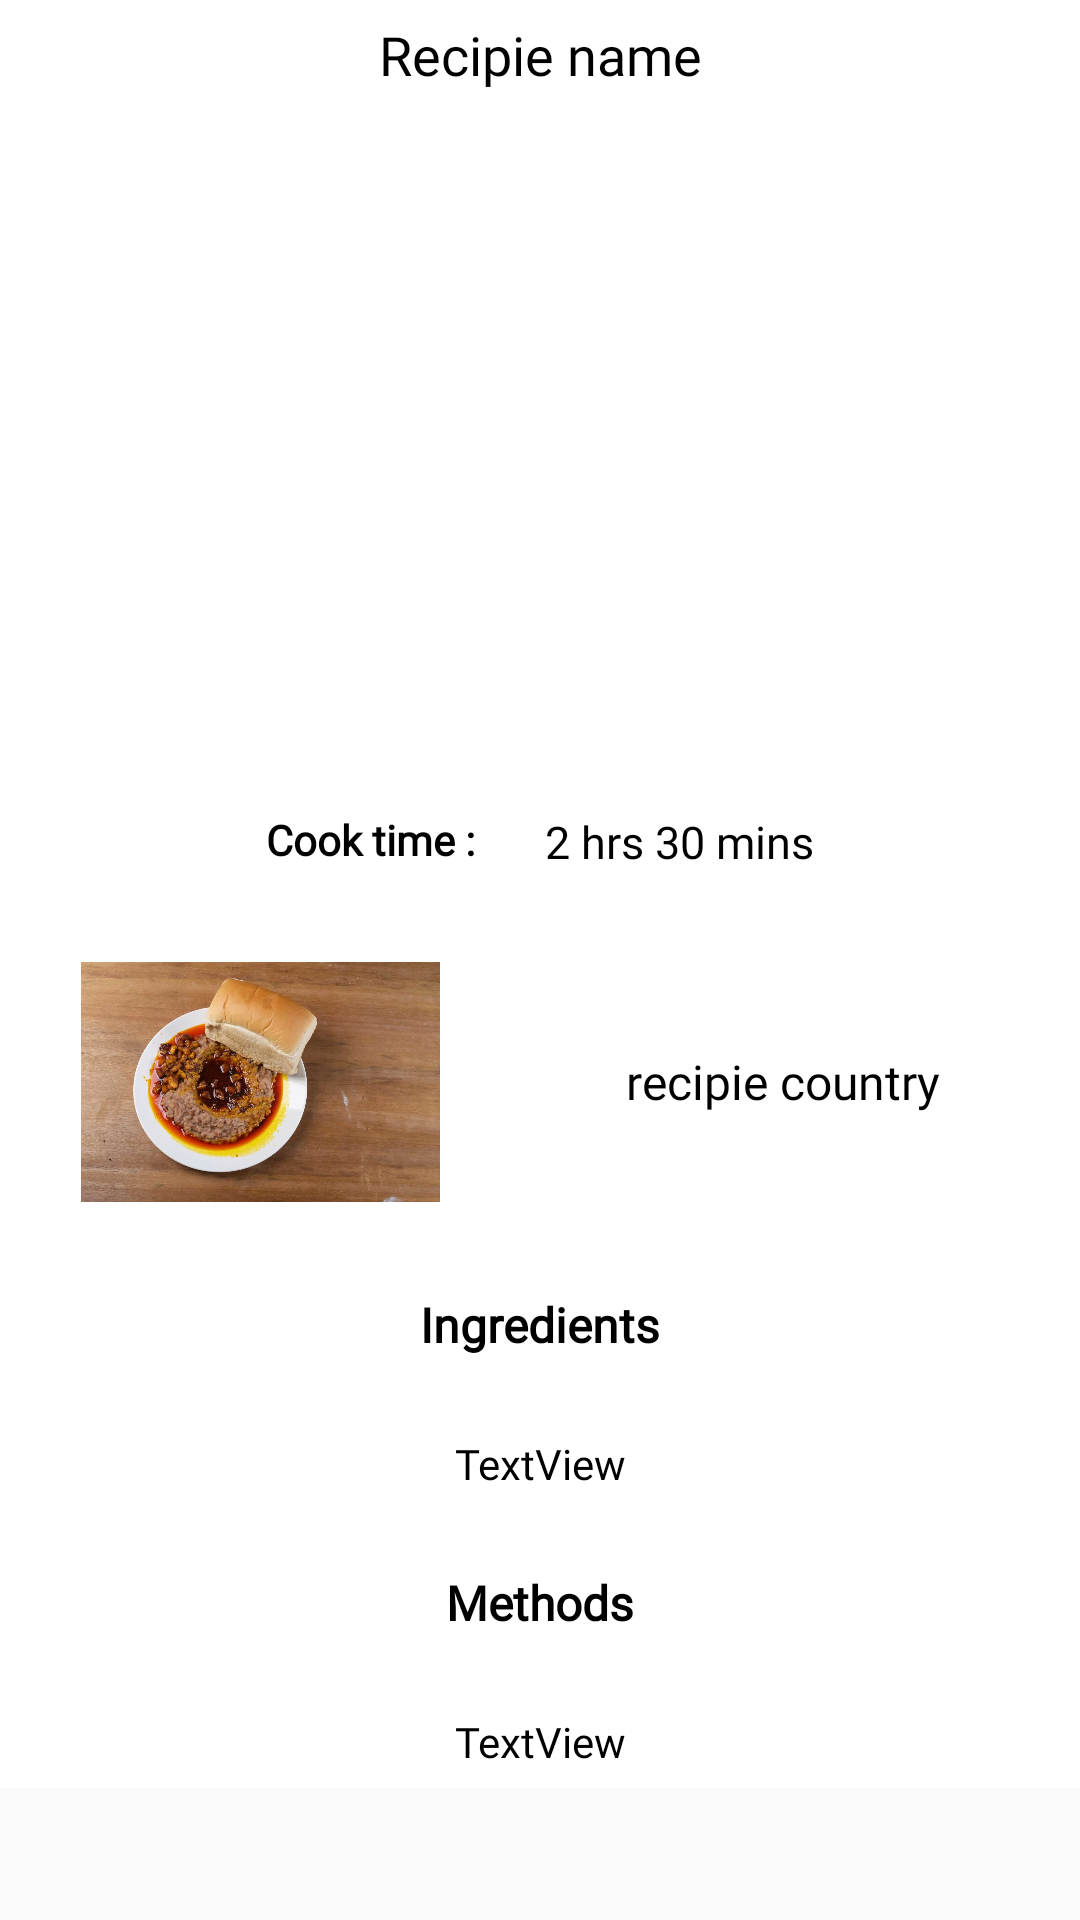

Where icons sit on this 1080 x 1920 app screen, as (x1, y1, x2, y2):
agegebread: (81, 962, 440, 1202)
